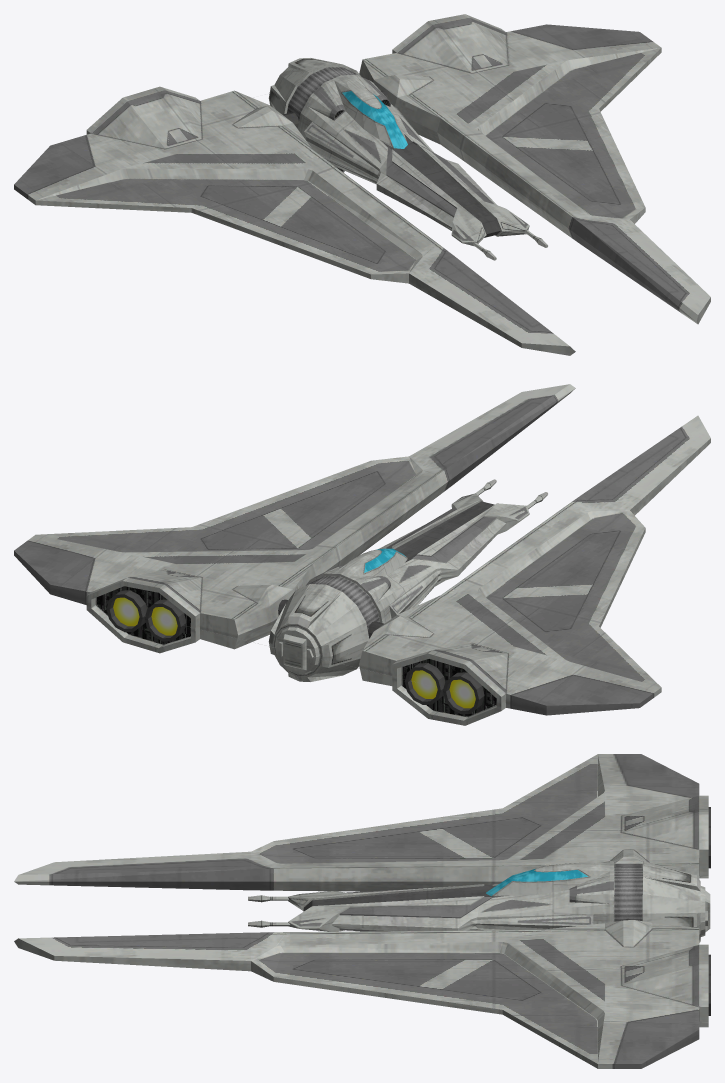
File: Gauntlet.obj
The picture shows the model from 3 angles, top to bottom: view 1: azimuth 30°, elevation 25°; view 2: azimuth 150°, elevation 25°; view 3: azimuth 270°, elevation 25°; orthographic projection.
Parts seen in each view (by area): view 1: Hull; view 2: Hull, Lights; view 3: Hull.
Boxes of the visible parts, x1=… form: Hull: x1=14, y1=14, x2=710, y2=355; Hull: x1=14, y1=384, x2=710, y2=725; Lights: x1=113, y1=597, x2=475, y2=708; Hull: x1=14, y1=754, x2=710, y2=1068.
Size of the model in its own units: 131 by 18.34 by 125.
